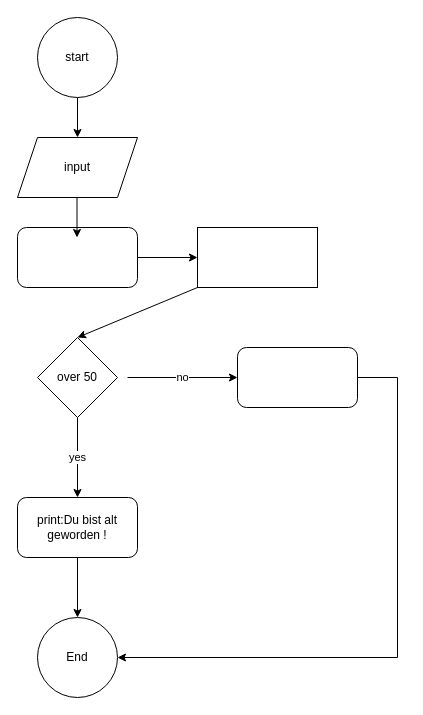
Image size: 423x715. Some labels were removed from this diagram. Here are the shapes that lost their labels. From the top down, the centre of each, then its label:
At [77,257]: "print : Wie alt bist du ?".
At [257,257]: "process: Calculation".
At [297,377]: "print:werd erwachsen".
